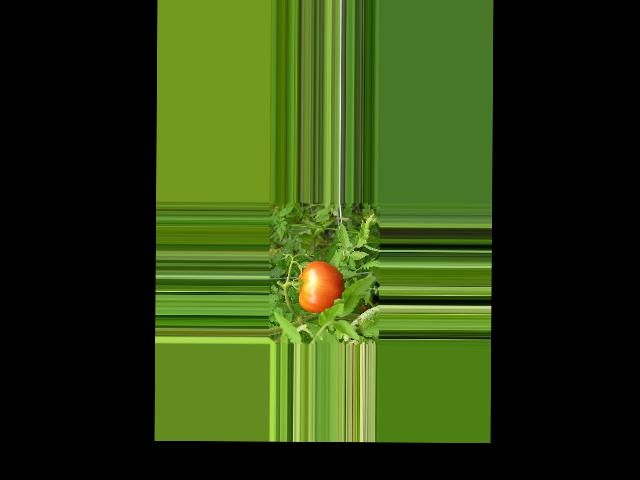tomato: (298, 261, 343, 312)
